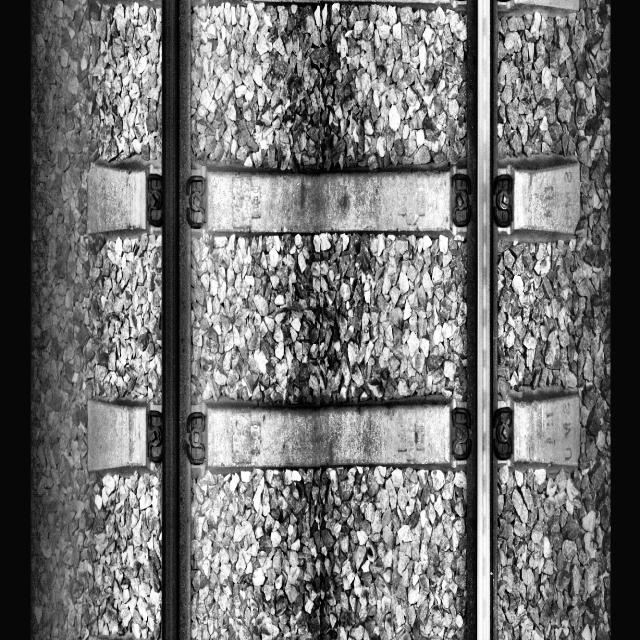Clips: (186, 175, 208, 229), (492, 406, 514, 460), (451, 174, 472, 228), (451, 406, 472, 459), (186, 411, 207, 462), (494, 174, 513, 227), (145, 408, 163, 463), (146, 173, 163, 227)
Sleepers: (87, 161, 581, 237), (87, 398, 580, 470)
